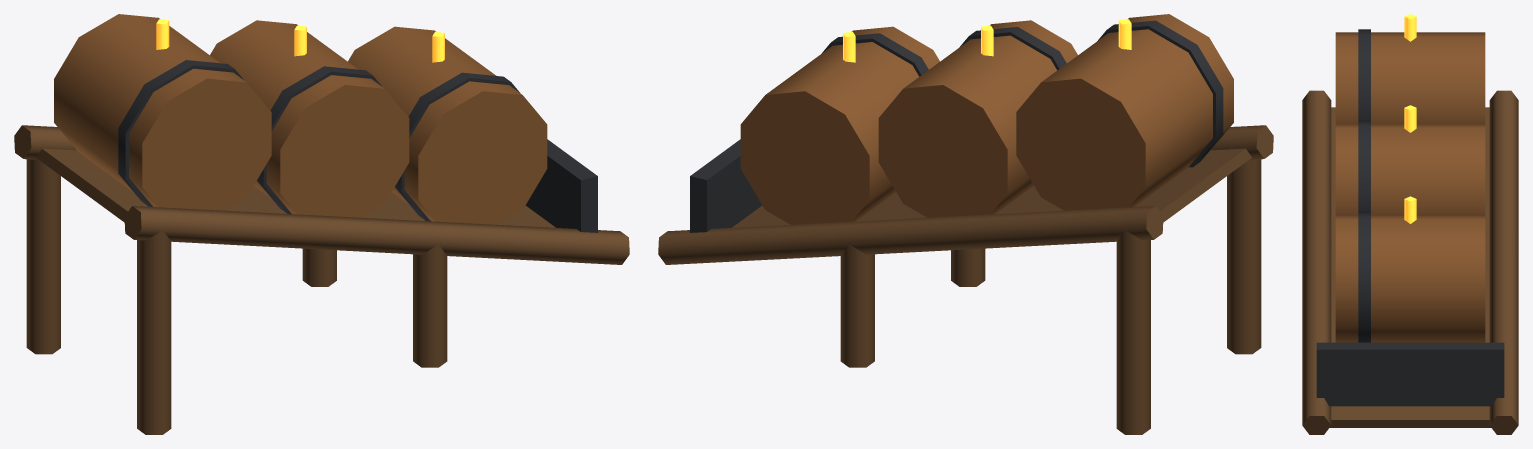
File: mount-kegs.glb
3 renders of one model, left to right at view 1: azimuth 30°, elevation 25°; view 2: azimuth 150°, elevation 25°; view 3: azimuth 270°, elevation 25°, orthographic. The views are drawn at different scales.
Parts seen in each view (by area): view 1: Mesh_Keg0, Mesh_Keg2, Mesh_Keg1, Mesh_RailS, Mesh_LegAS, Mesh_LegAP, Mesh_Bed, Mesh_Stop, Mesh_LegBS, Mesh_Hoop0, Mesh_Hoop2, Mesh_Hoop1 (+2 smaller); view 2: Mesh_Keg0, Mesh_Keg2, Mesh_Keg1, Mesh_RailP, Mesh_LegAP, Mesh_LegAS, Mesh_Bed, Mesh_Stop, Mesh_LegBP, Mesh_Hoop0, Mesh_RailS, Mesh_LegBS (+2 smaller); view 3: Mesh_Keg2, Mesh_Keg0, Mesh_Keg1, Mesh_Stop, Mesh_RailP, Mesh_RailS, Mesh_Bed, Mesh_Hoop2, Mesh_Hoop0, Mesh_Hoop1, Mesh_Fuse1, Mesh_Fuse0 (+1 smaller).
Part boxes in pixels (box(x1,y1,x2,y2)): Mesh_Keg0: box(54, 14, 271, 210); Mesh_Keg2: box(348, 26, 547, 224); Mesh_Keg1: box(210, 20, 409, 217); Mesh_RailS: box(124, 206, 629, 264); Mesh_LegAS: box(137, 230, 171, 434); Mesh_LegAP: box(26, 159, 60, 354); Mesh_Bed: box(36, 148, 555, 227); Mesh_Stop: box(525, 139, 597, 232); Mesh_LegBS: box(413, 245, 447, 367); Mesh_Hoop0: box(118, 60, 244, 206); Mesh_Hoop2: box(395, 72, 519, 221); Mesh_Hoop1: box(257, 66, 381, 214); Mesh_Keg0: box(1016, 14, 1233, 210); Mesh_Keg2: box(740, 26, 939, 224); Mesh_Keg1: box(878, 20, 1077, 217); Mesh_RailP: box(658, 206, 1163, 264); Mesh_LegAP: box(1116, 230, 1150, 434); Mesh_LegAS: box(1227, 159, 1261, 354); Mesh_Bed: box(732, 148, 1251, 227); Mesh_Stop: box(690, 139, 762, 232); Mesh_LegBP: box(840, 245, 874, 367); Mesh_Hoop0: box(1098, 20, 1223, 167); Mesh_RailS: box(1211, 125, 1273, 159); Mesh_LegBS: box(951, 248, 985, 286); Mesh_Keg2: box(1335, 214, 1485, 342); Mesh_Keg0: box(1335, 32, 1485, 123); Mesh_Keg1: box(1335, 123, 1485, 214); Mesh_Stop: box(1316, 342, 1504, 406); Mesh_RailP: box(1489, 90, 1518, 434); Mesh_RailS: box(1302, 90, 1331, 434); Mesh_Bed: box(1329, 107, 1491, 427); Mesh_Hoop2: box(1358, 211, 1370, 342); Mesh_Hoop0: box(1358, 29, 1370, 120); Mesh_Hoop1: box(1358, 120, 1370, 211); Mesh_Fuse1: box(1404, 105, 1416, 132); Mesh_Fuse0: box(1404, 14, 1416, 41).
Bounding box in the file's own units: 2.33 × 1.58 × 1.04.
